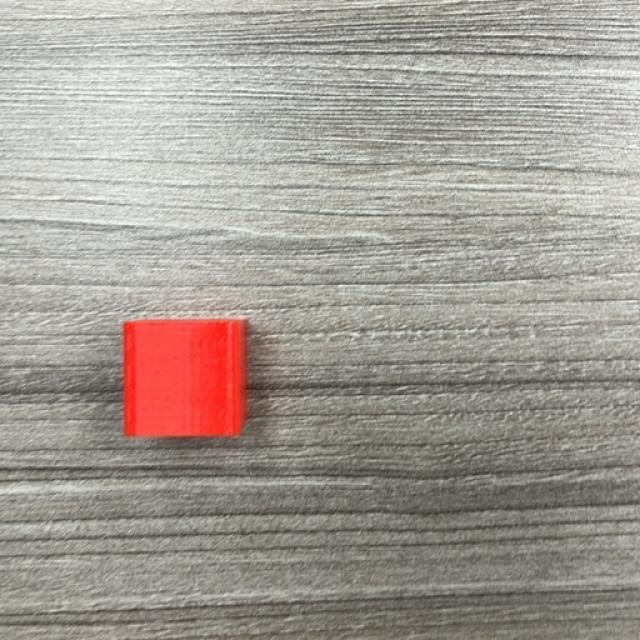Rojo: (122, 320, 249, 441)
